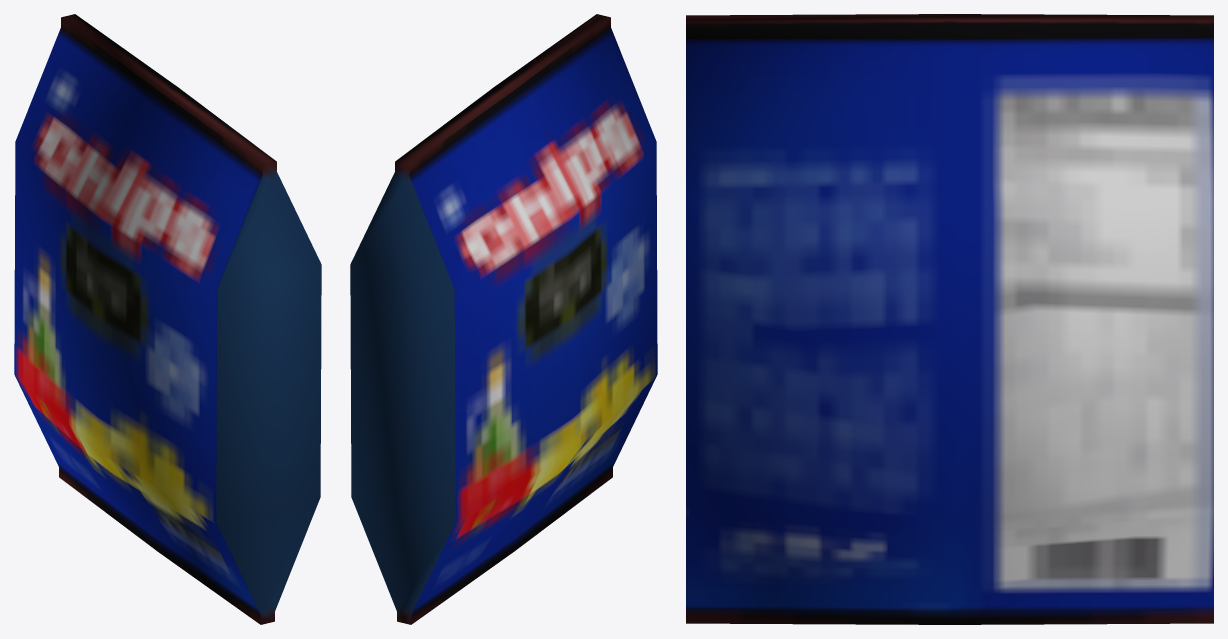
File: chips.fbx
The picture shows the model from 3 angles, left to right: view 1: azimuth 30°, elevation 25°; view 2: azimuth 150°, elevation 25°; view 3: azimuth 270°, elevation 25°; orthographic projection. The views are drawn at different scales.
Visible parts, largest first — view 1: chips; view 2: chips; view 3: chips.
Boxes of the visible parts, left/top/right/bottom form: chips: left=14, top=14, right=321, bottom=624; chips: left=350, top=14, right=657, bottom=624; chips: left=686, top=14, right=1213, bottom=624.
Bounding box in the file's own units: 4.89 × 15.66 × 12.48.
